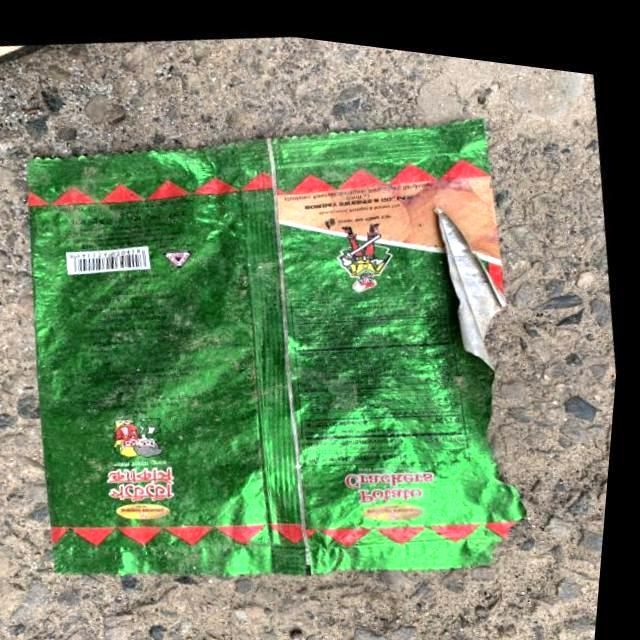packet: (74, 141, 483, 551)
